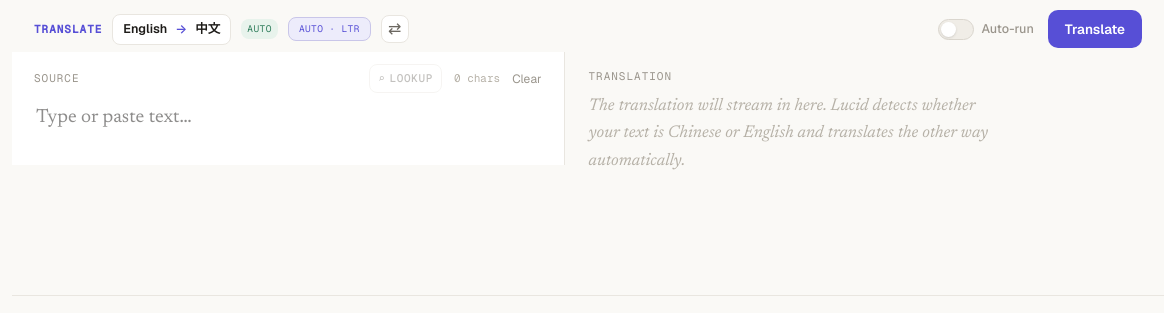
Test: TranslatePanel › streams a translation on Run (mocked provider) and shows Copy/Accept when done
The image size is (1164, 313).
In the text box named "Source": (288, 129) left=12, top=101, right=564, bottom=158, type "Hello world"
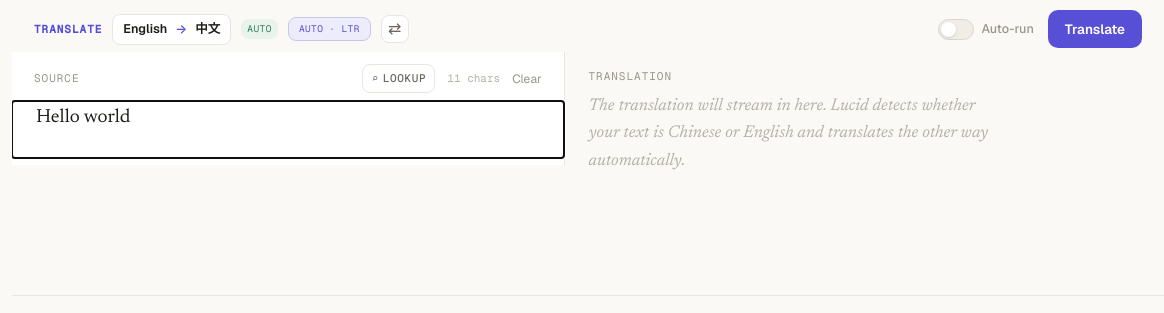
Click the button "Translate": click(1095, 29) left=1048, top=10, right=1142, bottom=48
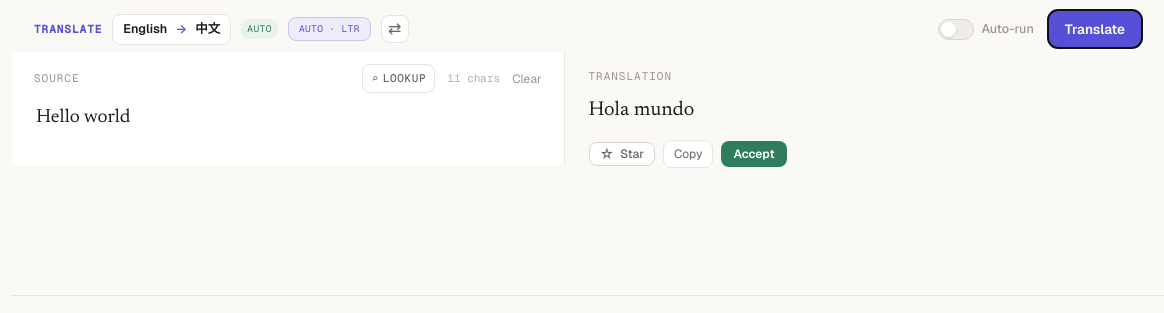
Result: the button "mundo" is shown at left=634, top=100, right=694, bottom=120
Result: the button "Copy" is shown at left=663, top=140, right=713, bottom=168
Result: the button "Accept" is shown at left=721, top=141, right=786, bottom=167
